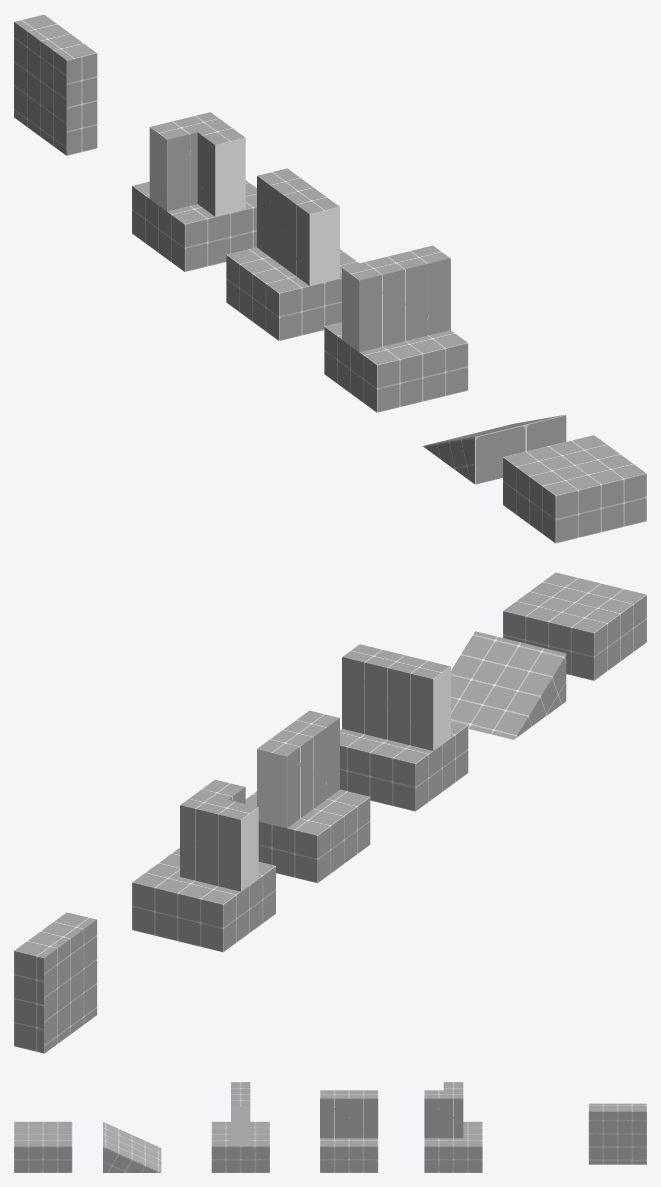
File: grid_mab_block.glb
3 views of the same model, one above another, from view 1: azimuth 30°, elevation 25°; view 2: azimuth 150°, elevation 25°; view 3: azimuth 270°, elevation 25° (orthographic). The views are drawn at different scales.
Visible parts, largest first — view 1: wall1-col, wall3-col, wall2-col, floor1-col, wall4-col, slope1-col; view 2: wall1-col, wall3-col, wall2-col, floor1-col, wall4-col, slope1-col; view 3: wall2-col, wall3-col, wall1-col, wall4-col, floor1-col, slope1-col.
Boxes of the visible parts, x1,y1,x2,y2 form: wall1-col: [324, 245, 468, 412]; wall3-col: [132, 112, 256, 271]; wall2-col: [226, 168, 359, 340]; floor1-col: [503, 435, 646, 543]; wall4-col: [14, 14, 97, 155]; slope1-col: [423, 414, 566, 484]; wall1-col: [340, 644, 468, 811]; wall3-col: [132, 779, 275, 952]; wall2-col: [245, 710, 370, 883]; floor1-col: [503, 572, 646, 680]; wall4-col: [14, 912, 97, 1053]; slope1-col: [451, 631, 566, 739]; wall2-col: [320, 1090, 378, 1172]; wall3-col: [424, 1082, 482, 1172]; wall1-col: [211, 1082, 269, 1172]; wall4-col: [588, 1103, 646, 1164]; floor1-col: [14, 1121, 72, 1172]; slope1-col: [103, 1122, 161, 1172].
Bounding box in the file's own units: 2 × 2.5 × 21.7.
Materials: 1 (1 with a texture image).
